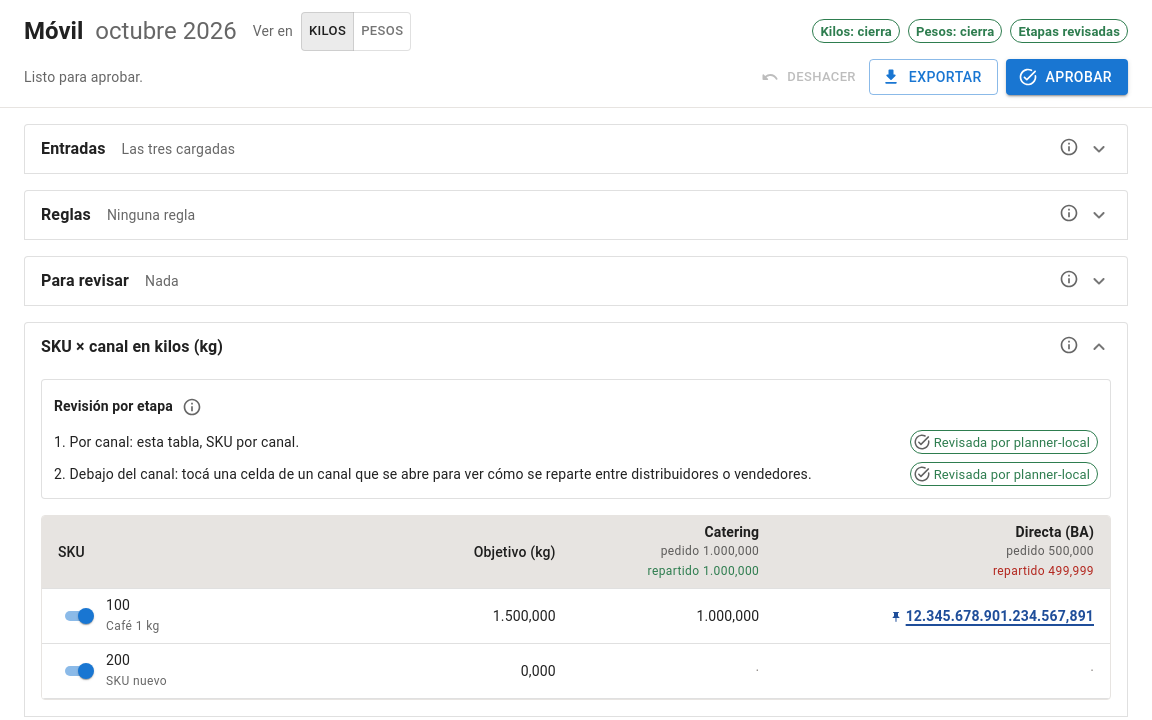
Test case: MovilPage › el ⓘ explica el concepto en un modal y no abre ni cierra la sección
Step 1. Click the button named "Qué es una regla" → point(1069, 213), box [1054,198,1084,228]
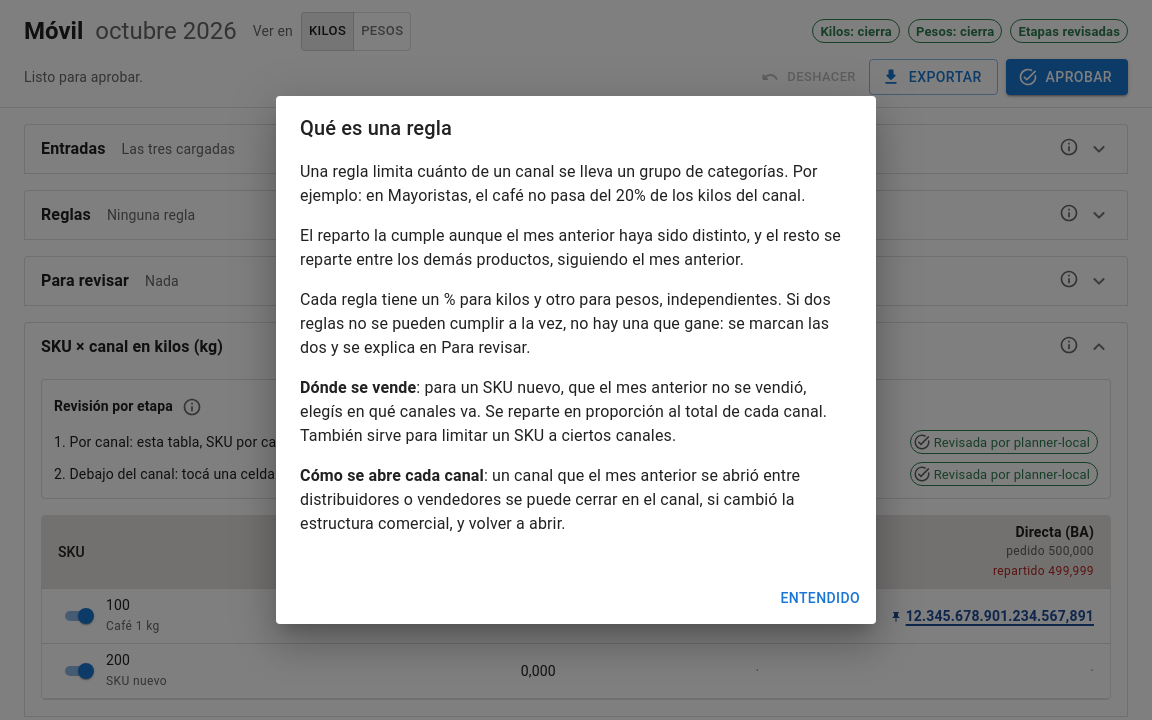
Now the text "limita cuánto de un canal" is shown, box [300,162,818,205]
Step 2. Click the button "Entendido" → point(820, 598), box [772,580,868,616]
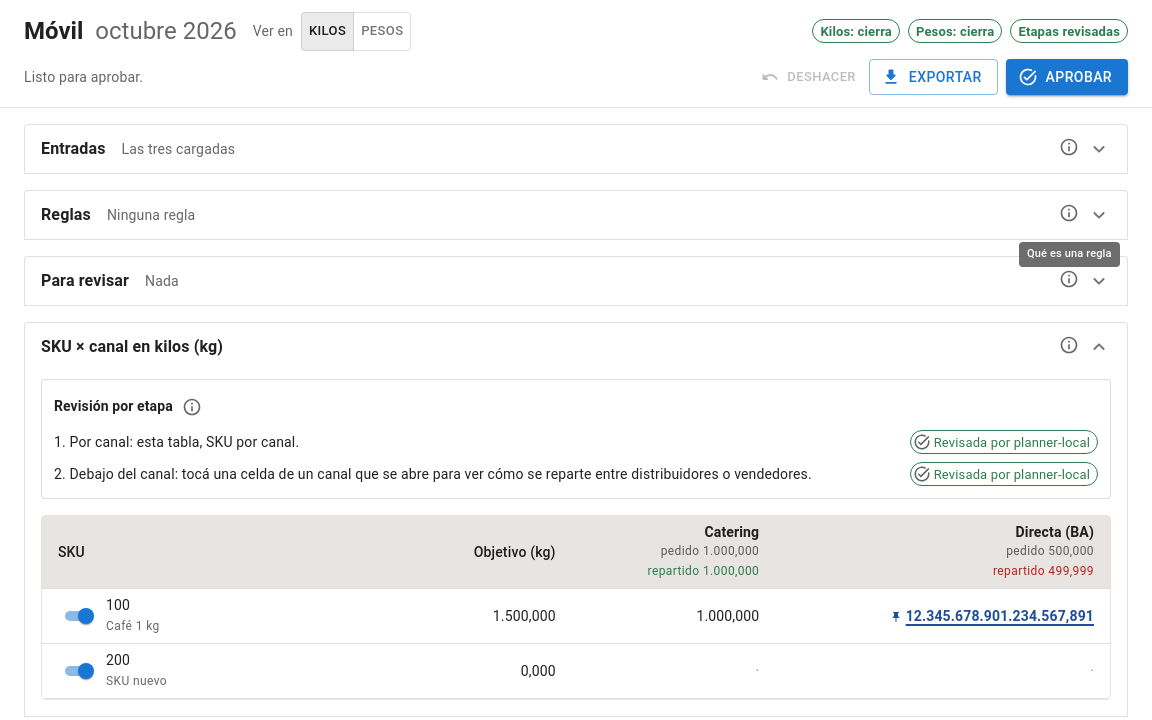
Now the dialog is gone
